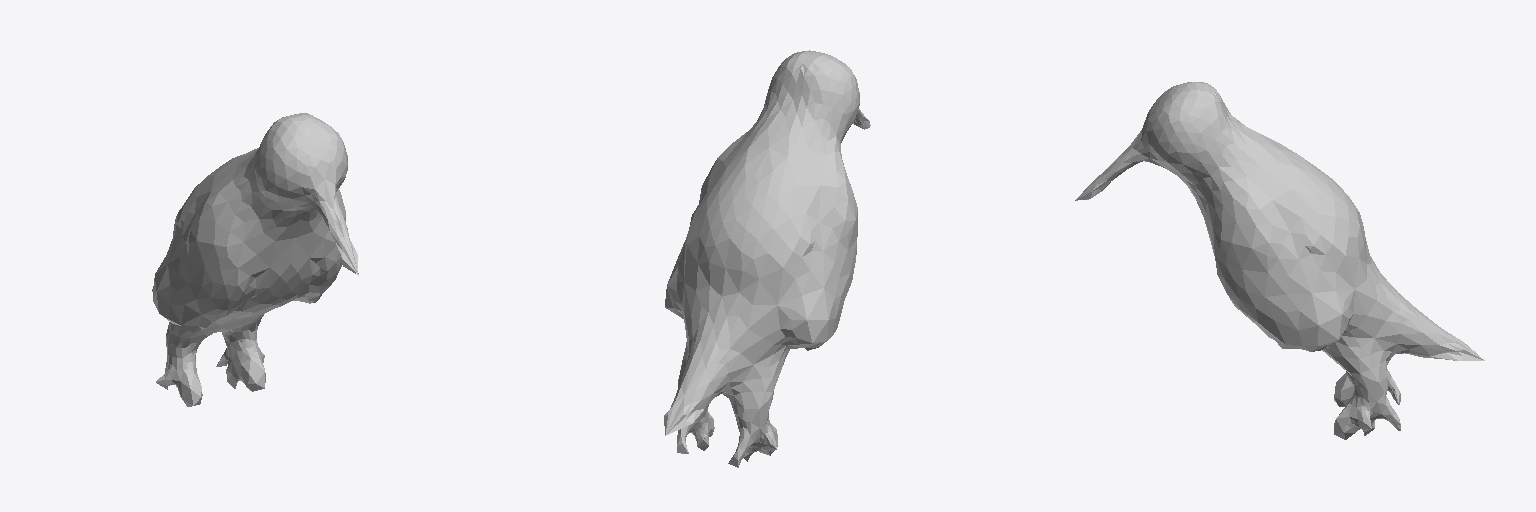
The model's file is bird_stand.obj.
3 views of the same model, side by side, from view 1: azimuth 30°, elevation 25°; view 2: azimuth 150°, elevation 25°; view 3: azimuth 270°, elevation 25° (orthographic).
Visible parts, largest first — view 1: bird_stand; view 2: bird_stand; view 3: bird_stand.
Part boxes in pixels (left/top/right/bottom): bird_stand: left=152, top=113, right=358, bottom=406; bird_stand: left=664, top=50, right=870, bottom=467; bird_stand: left=1075, top=82, right=1484, bottom=439.
Size of the model in its own units: 2.46 by 5 by 5.47.